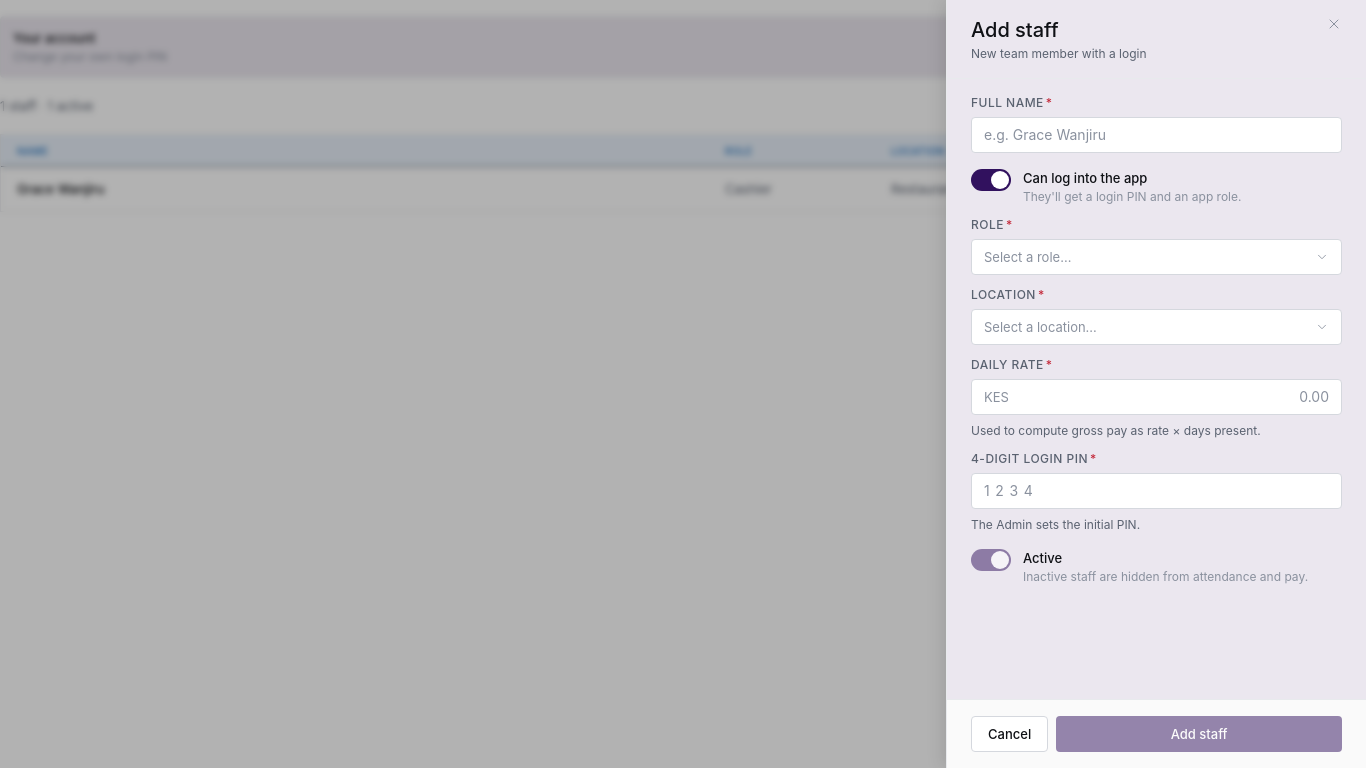
Test: Roster — add staff drawer › creates a staff member with a 4-digit PIN through the drawer
The width and height of the screenshot is (1366, 768).
Type "Brian Kiptoo" into the field labelled "Full name*" at {"x": 1156, "y": 135}, box [984,126,1329,144]
Click the dropdown labelled "Select a role…" at {"x": 1028, "y": 257}, box [971,239,1342,275]
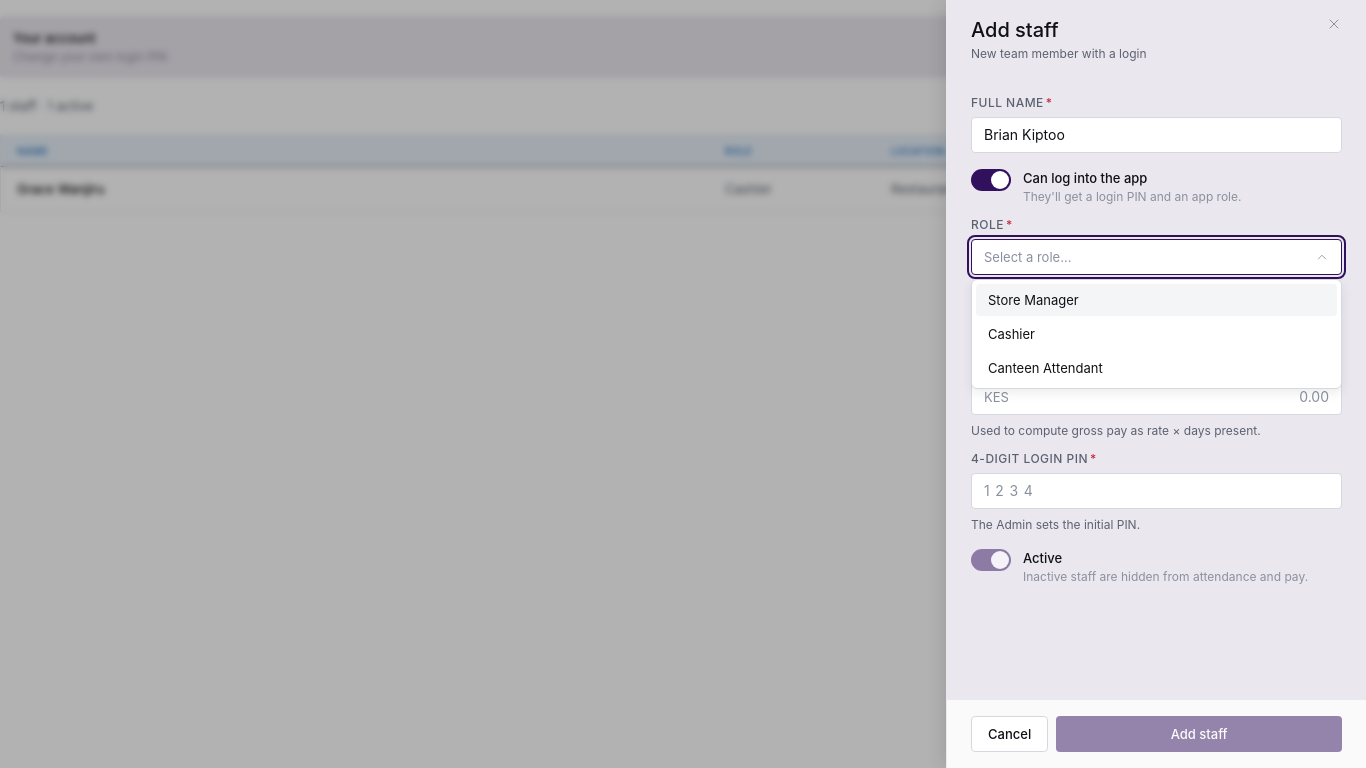
Click the option "Cashier" at {"x": 1012, "y": 334}, box [988,326,1035,342]
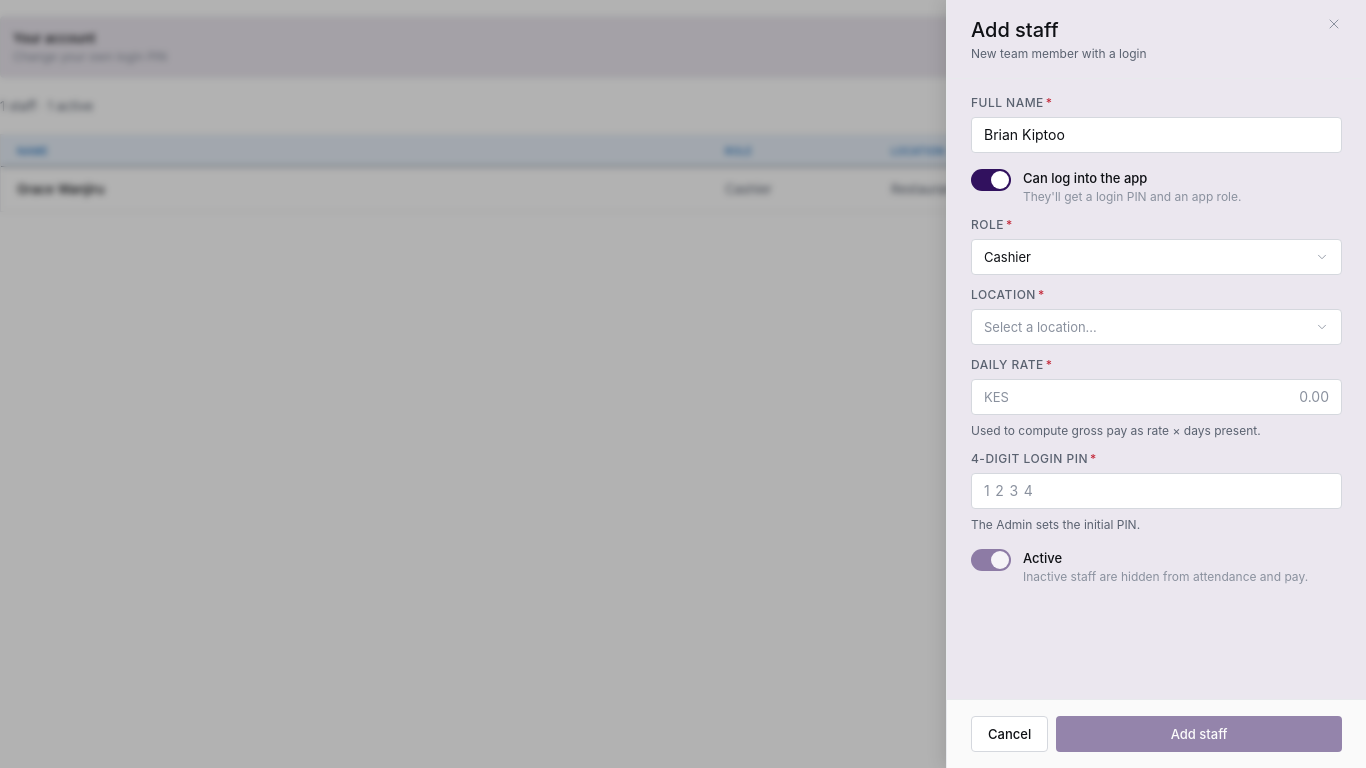
Click the dropdown labelled "Select a location…" at {"x": 1040, "y": 327}, box [971,309,1342,345]
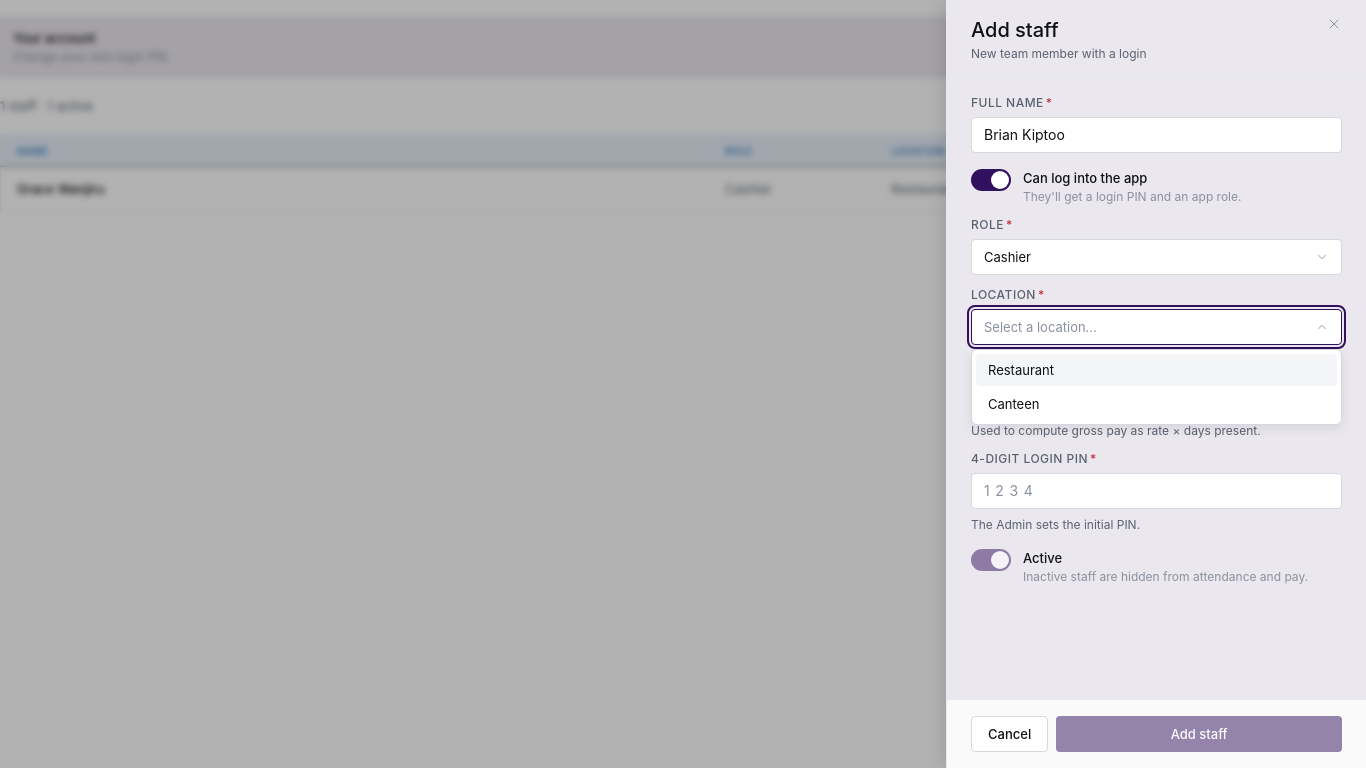
Click the option "Canteen" at {"x": 1014, "y": 404}, box [988,396,1040,412]
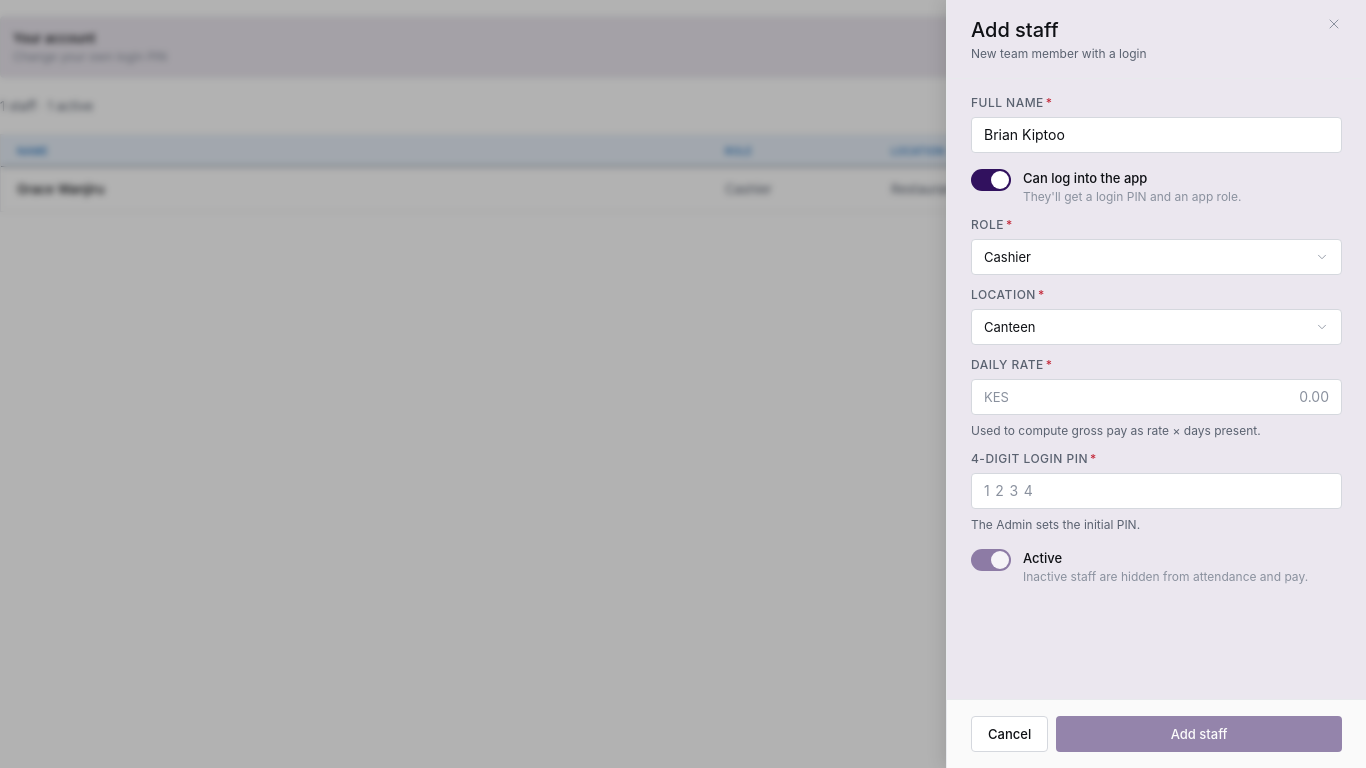
Type "750" into the field labelled "Daily rate*" at {"x": 1169, "y": 397}, box [1009,388,1329,406]
Type "4821" into the field labelled "4-digit login PIN*" at {"x": 1156, "y": 491}, box [984,481,1329,501]
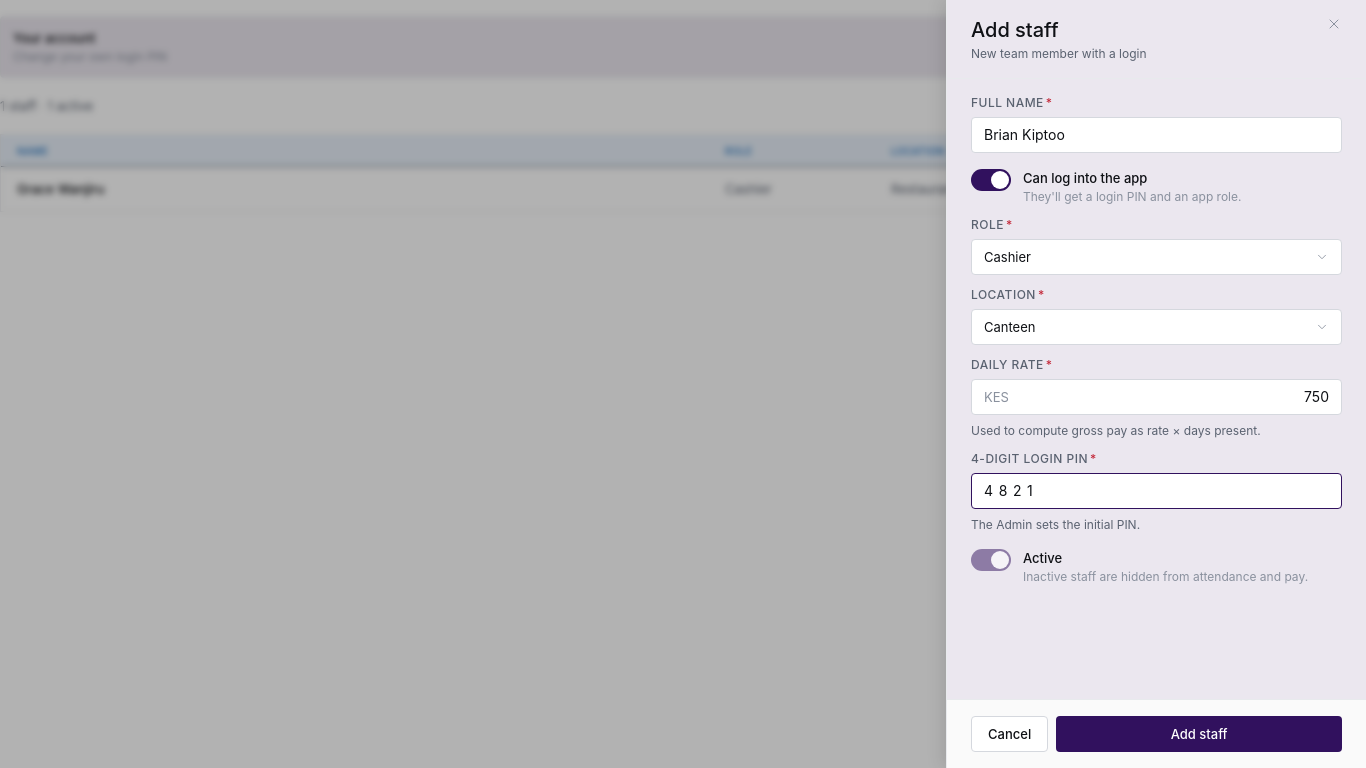
Click the button "Add staff" at {"x": 1199, "y": 734}, box [1056,716,1342,752]
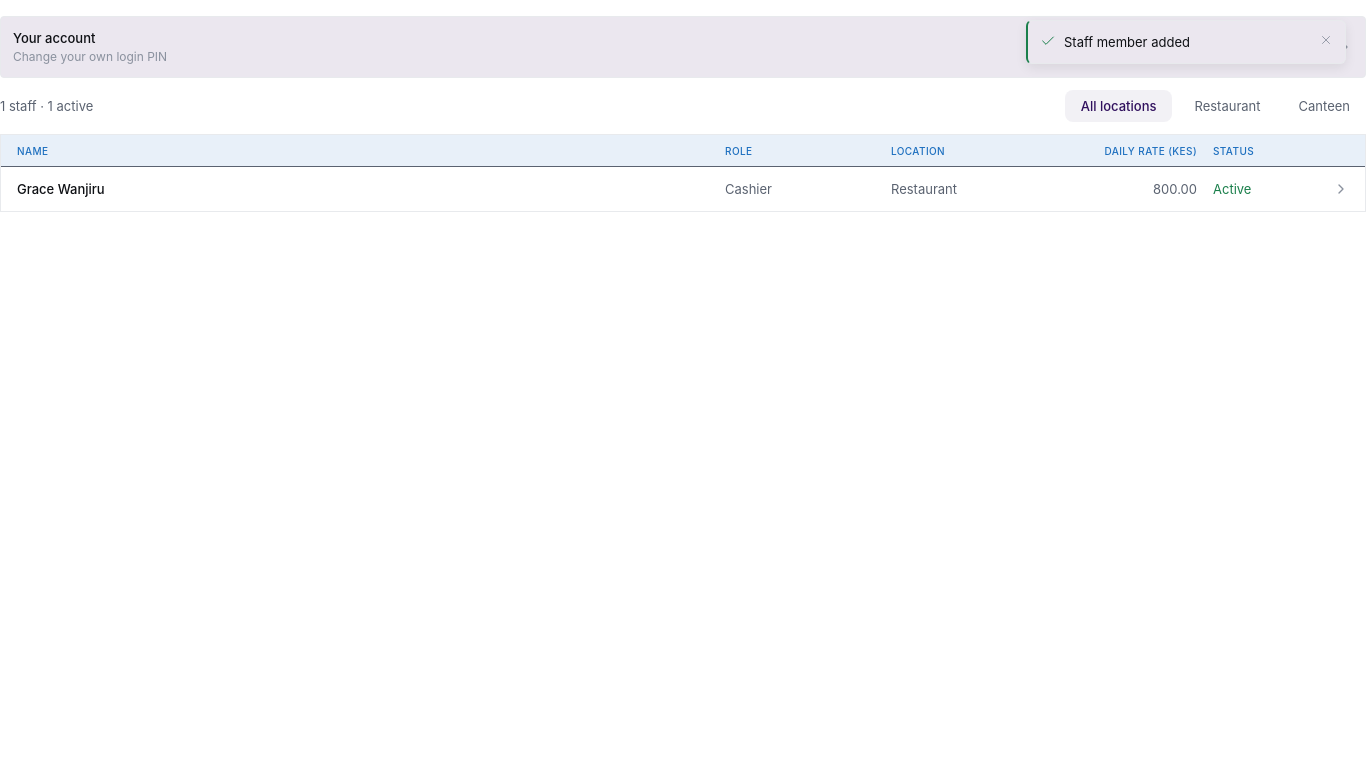
Expected: the text "Staff member added" is shown, [1064,34,1190,50]
